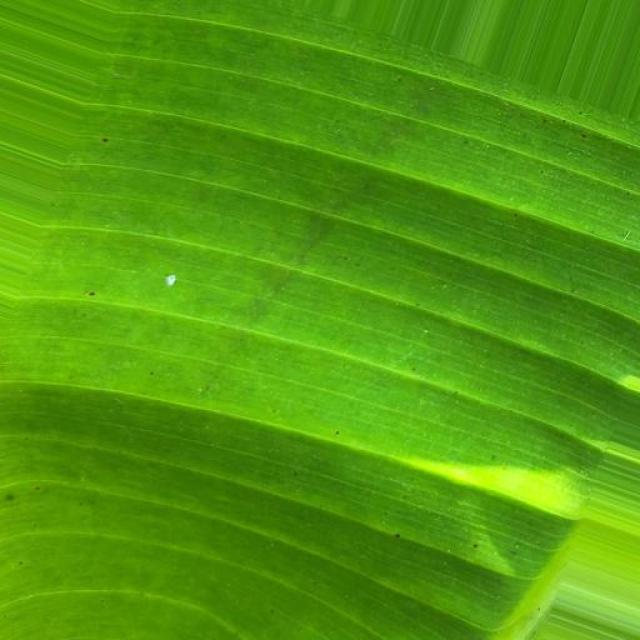Black_leaf_spot: (52, 0, 572, 606)
